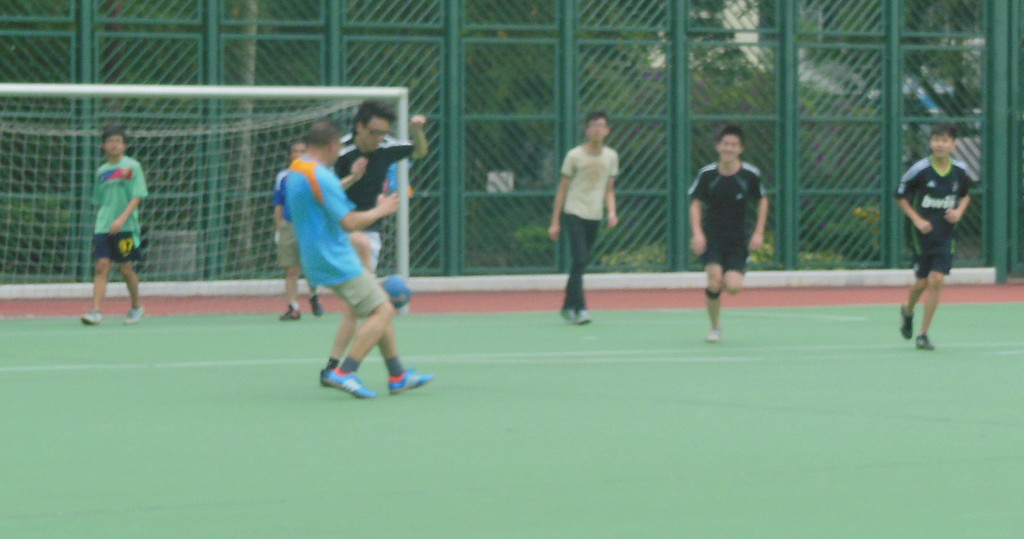Person: (80, 96, 980, 399)
